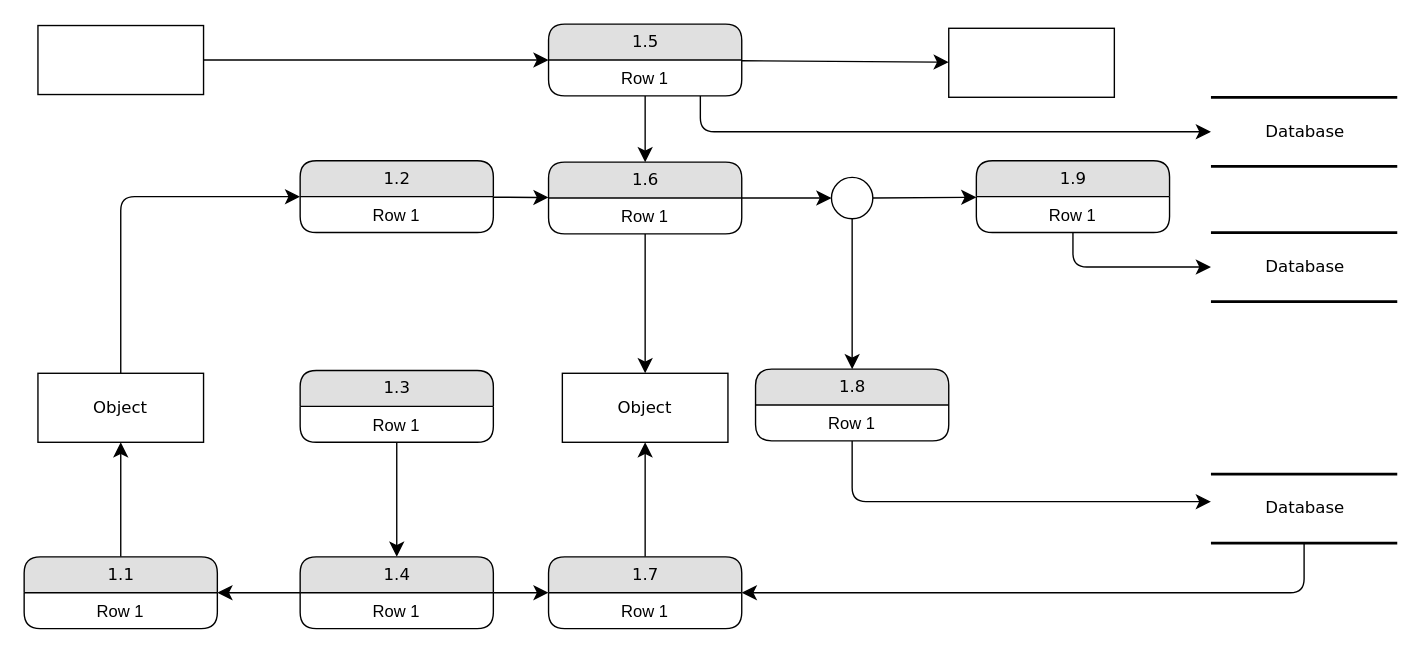
Image size: 1423x657. Some labels were removed from this diagram. Each missing label, with the box of its shape:
Input: (37, 24, 204, 95)
Output: (947, 27, 1114, 97)
